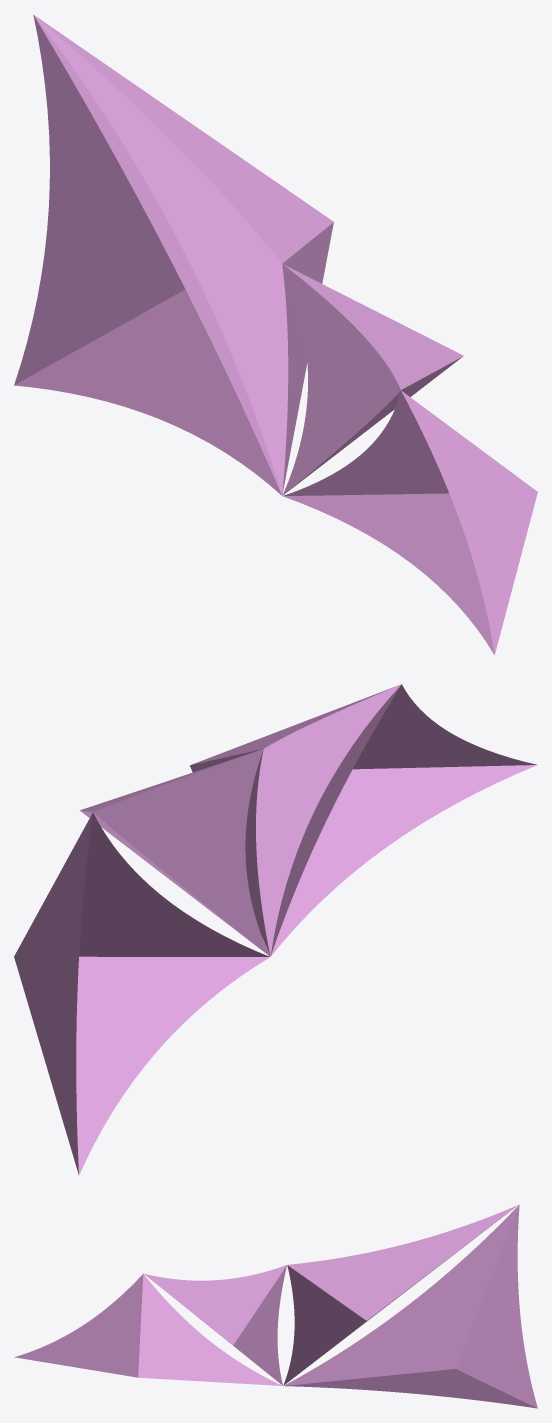
File: TYPE44-2.glb
3 views of the same model, one above another, from view 1: azimuth 30°, elevation 25°; view 2: azimuth 150°, elevation 25°; view 3: azimuth 270°, elevation 25° (orthographic). The views are drawn at different scales.
Visible parts, largest first — view 1: TYPE44-2 (×12); view 2: TYPE44-2 (×12); view 3: TYPE44-2 (×9).
Boxes of the visible parts, x1,y1,x2,y2 form: TYPE44-2 (×12): [14, 15, 537, 654]; TYPE44-2 (×12): [14, 684, 537, 1175]; TYPE44-2 (×9): [14, 1205, 537, 1408].
Size of the model in its own units: 1.92 by 4.03 by 9.35.
